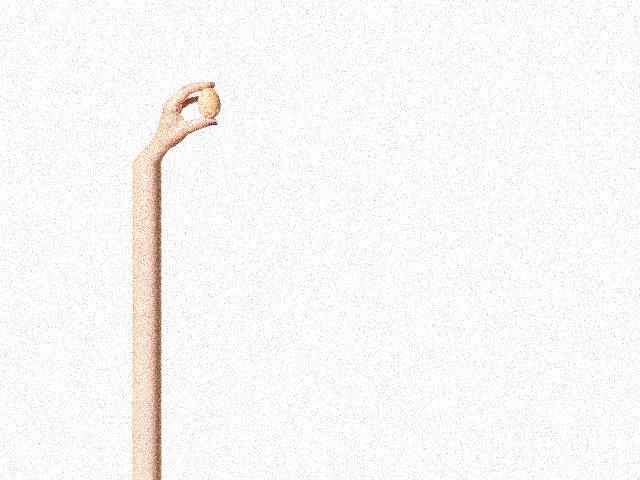egg: (197, 88, 219, 119)
